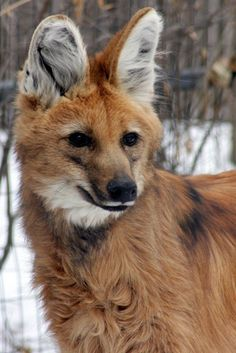LoboGuara: (15, 4, 228, 348)
